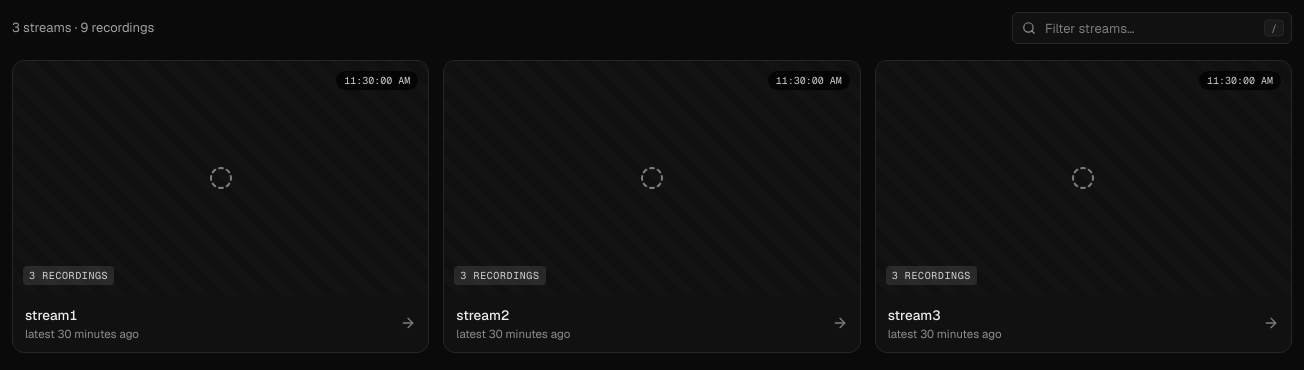
it: the client-side filter › narrows the grid to matching streams as you type
This screenshot has width=1304, height=370.
Type "stream2" into the search field labelled "Filter streams" at (1152, 28), box [1012, 12, 1292, 44]
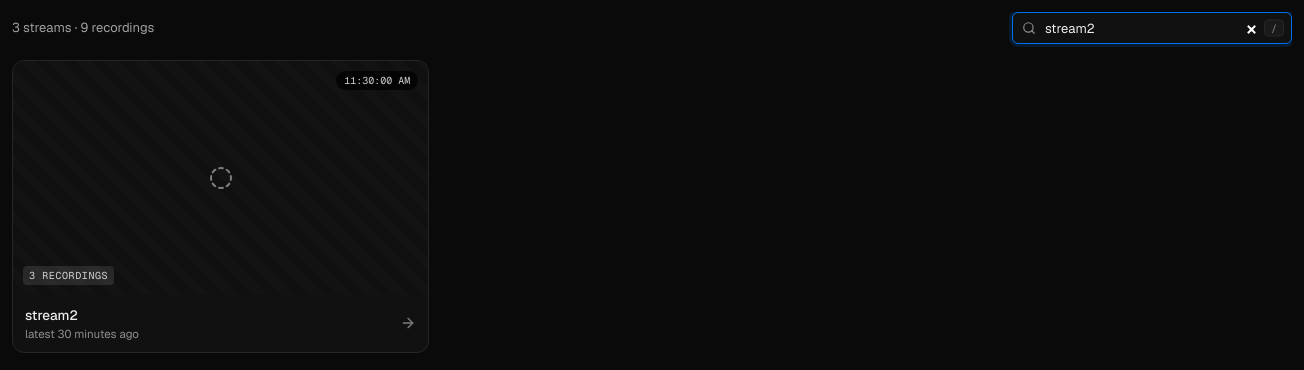
Expected: the text "stream2" is shown, [25, 306, 78, 324]
Result: the number of links with test id "stream-summary-card" is 1 at [12, 60, 429, 353]
